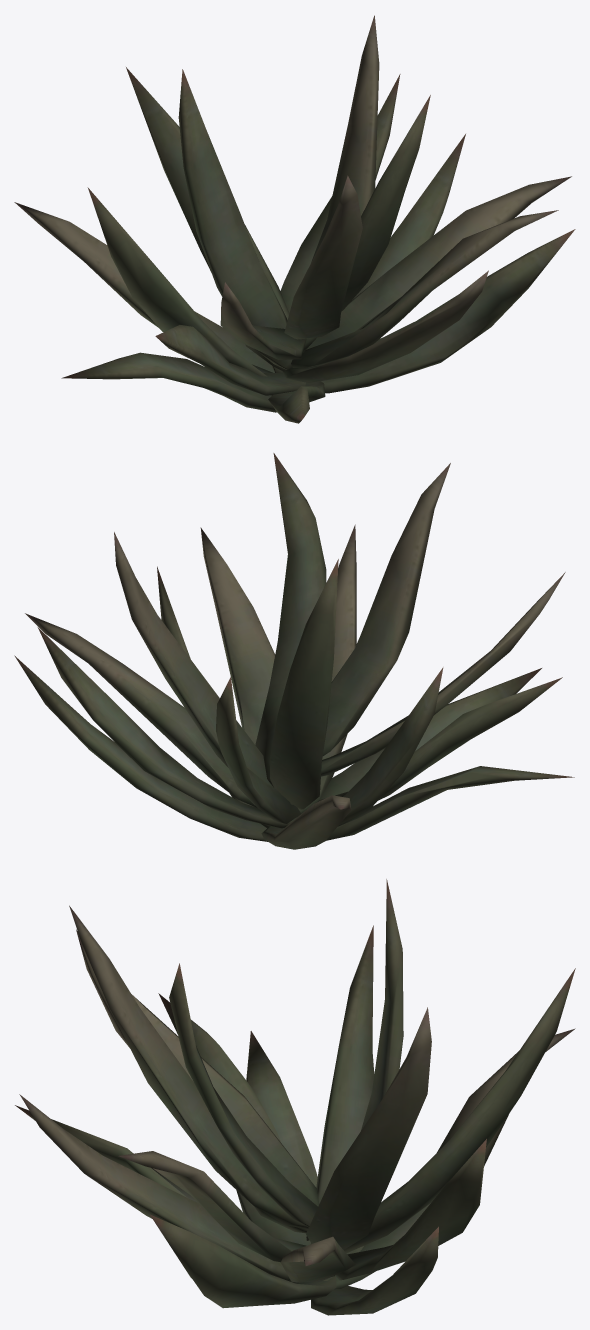
File: cactus-4.glb
3 views of the same model, one above another, from view 1: azimuth 30°, elevation 25°; view 2: azimuth 150°, elevation 25°; view 3: azimuth 270°, elevation 25° (orthographic). The views are drawn at different scales.
Parts seen in each view (by area): view 1: DE_Cactus_B_02; view 2: DE_Cactus_B_02; view 3: DE_Cactus_B_02.
Part boxes in pixels (left/top/right/bottom): DE_Cactus_B_02: left=14, top=15, right=575, bottom=423; DE_Cactus_B_02: left=14, top=453, right=574, bottom=849; DE_Cactus_B_02: left=15, top=879, right=575, bottom=1315.
Bounding box in the file's own units: 3.15 × 1.86 × 2.52.
1 material, 1 textured.
